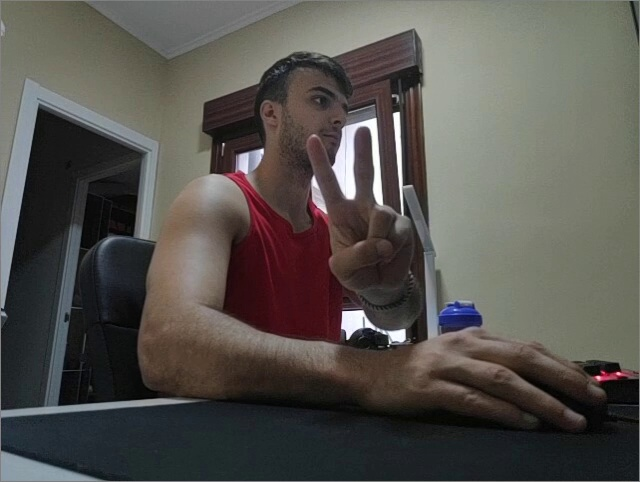Peace: (304, 125, 415, 294)
